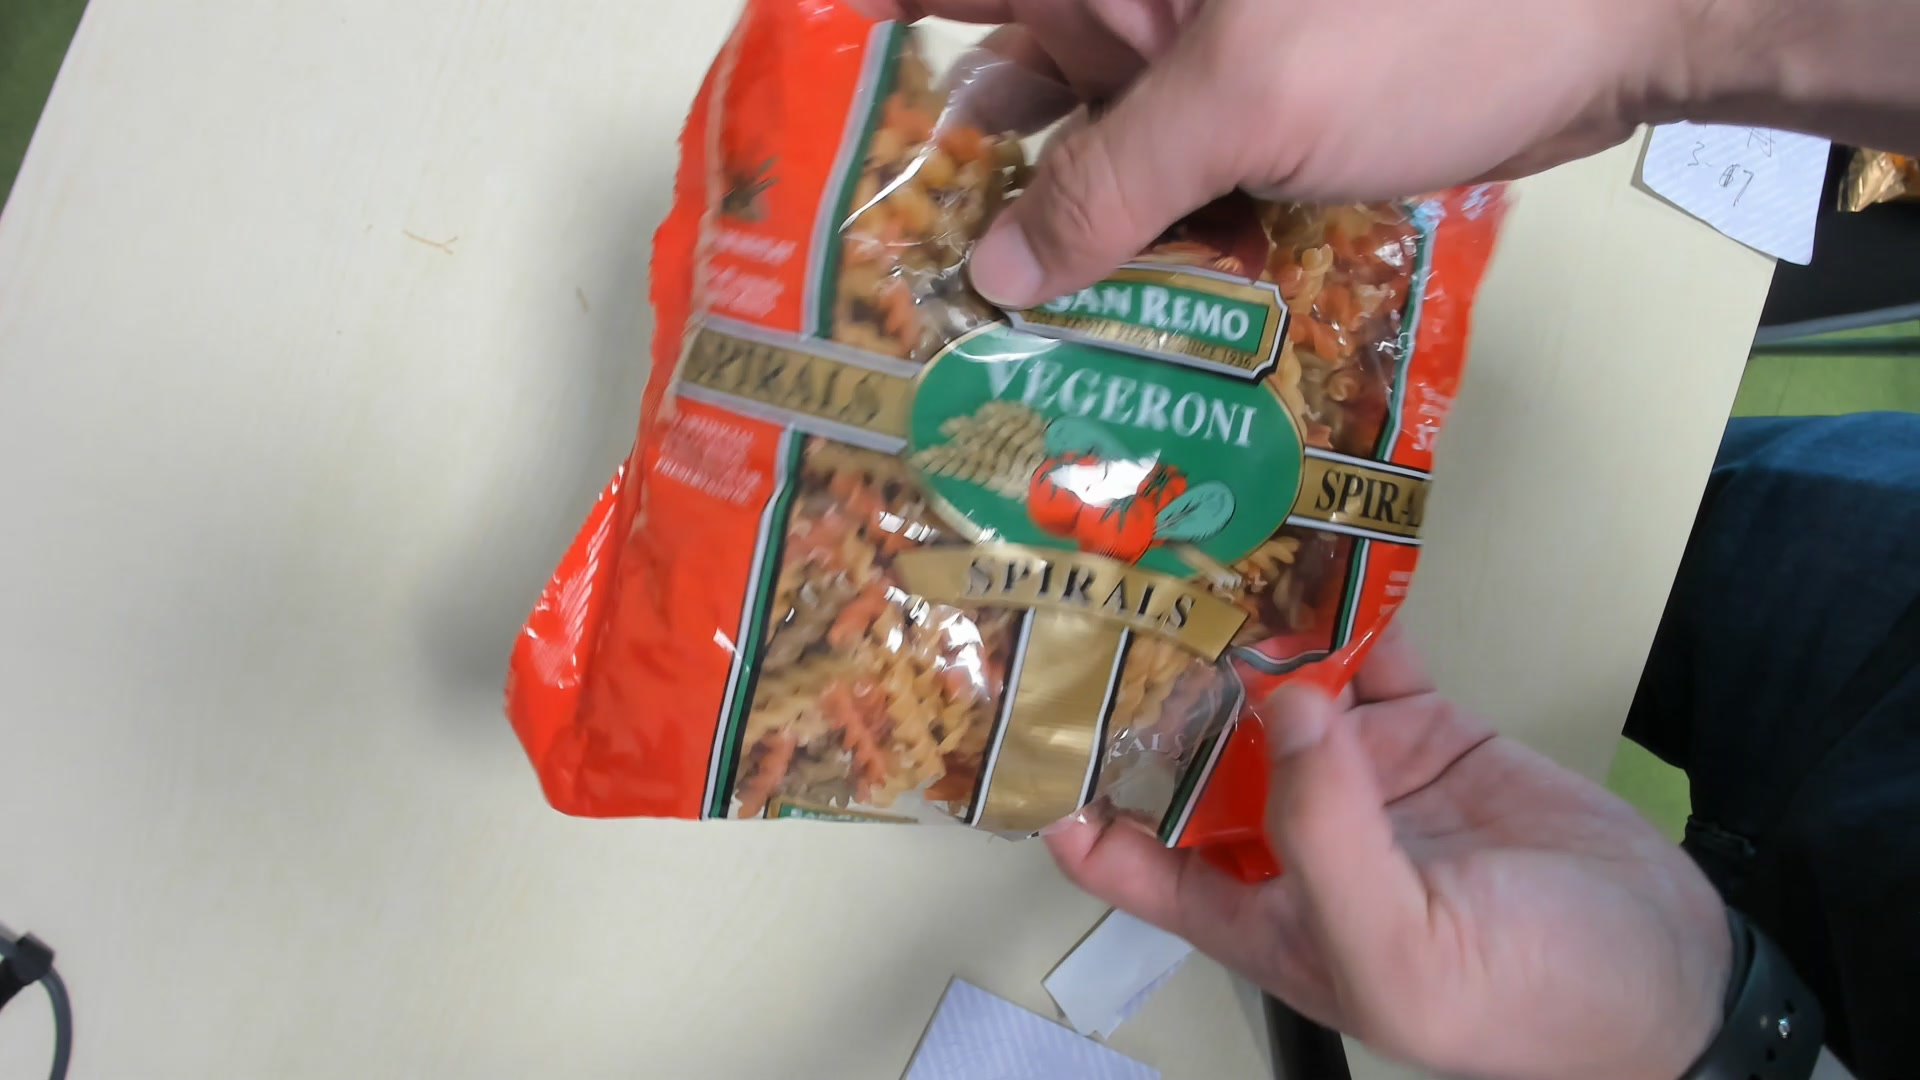Pasta_400-499g_Halal_NonHealthy: (522, 1, 1497, 886)
